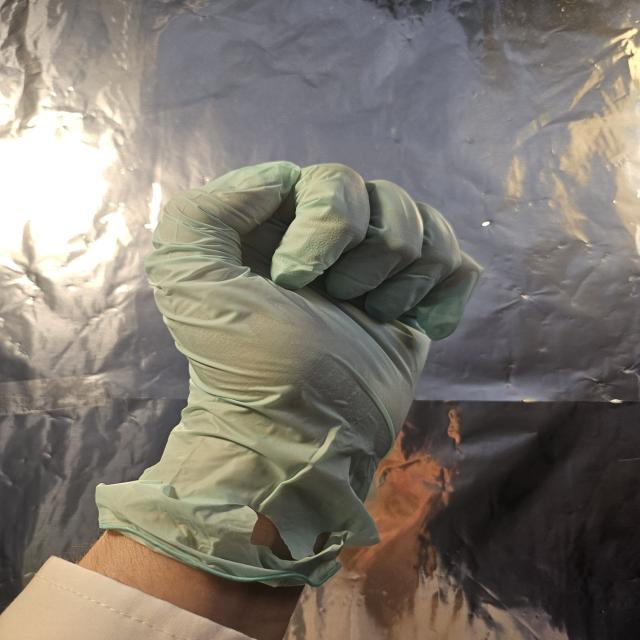gloves_damaged: (98, 160, 484, 588)
